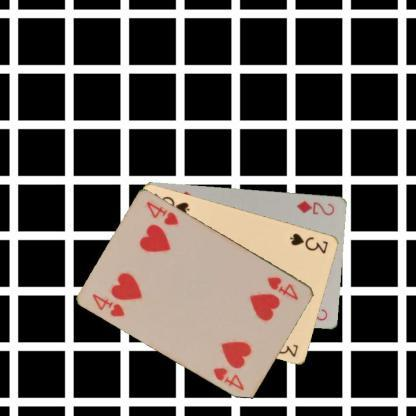2d: (294, 198, 336, 216)
3s: (287, 230, 329, 255)
4h: (90, 290, 127, 318), (264, 274, 300, 301)
